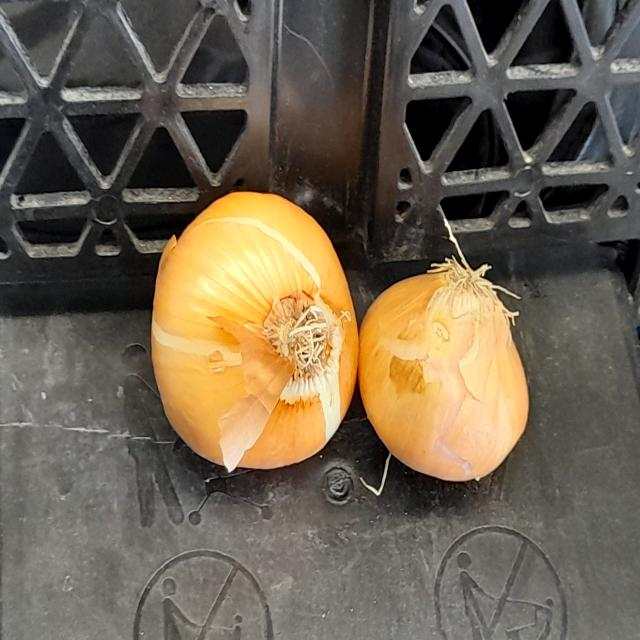onion: (145, 170, 361, 482), (357, 239, 539, 487)
